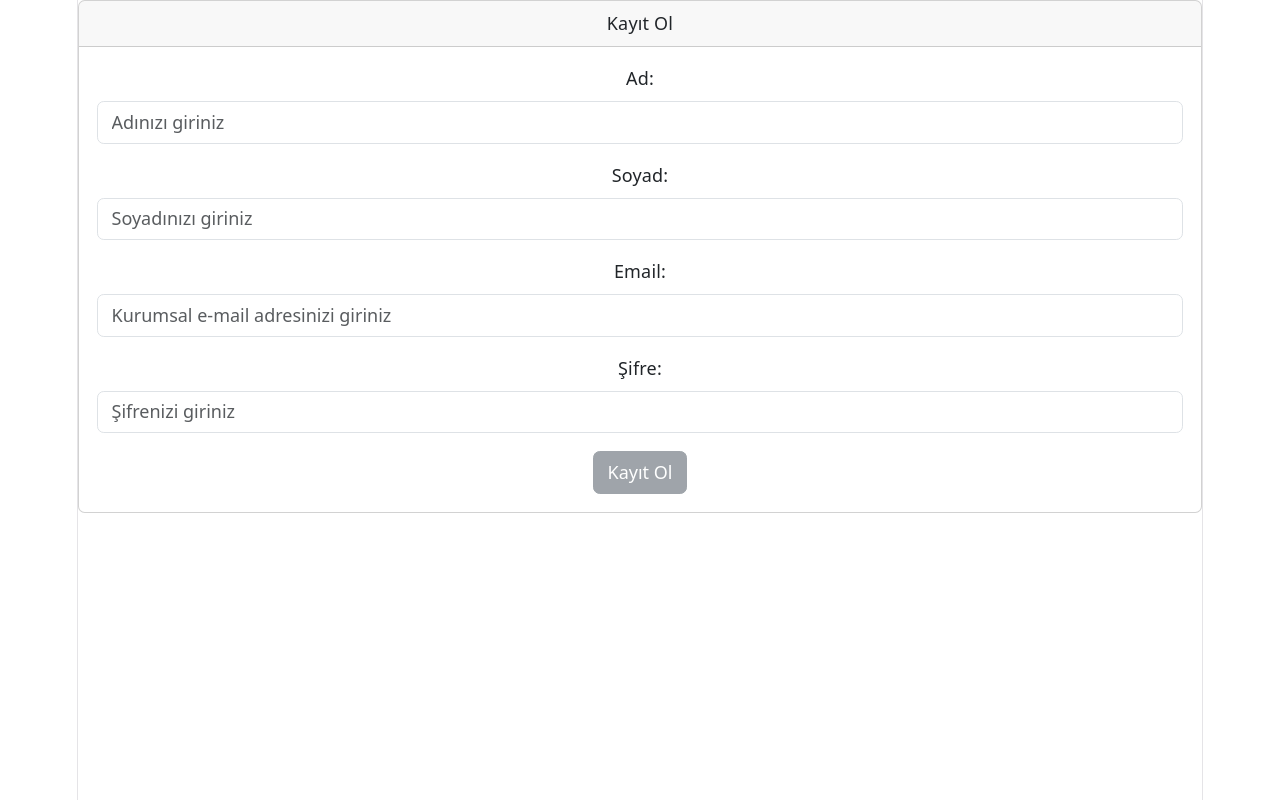
Register Page › Error Messages › Name input throws error for 2 chars
Type "gö" into the field with test id "ad-input" at x=640, y=123, box [97,101,1183,144]
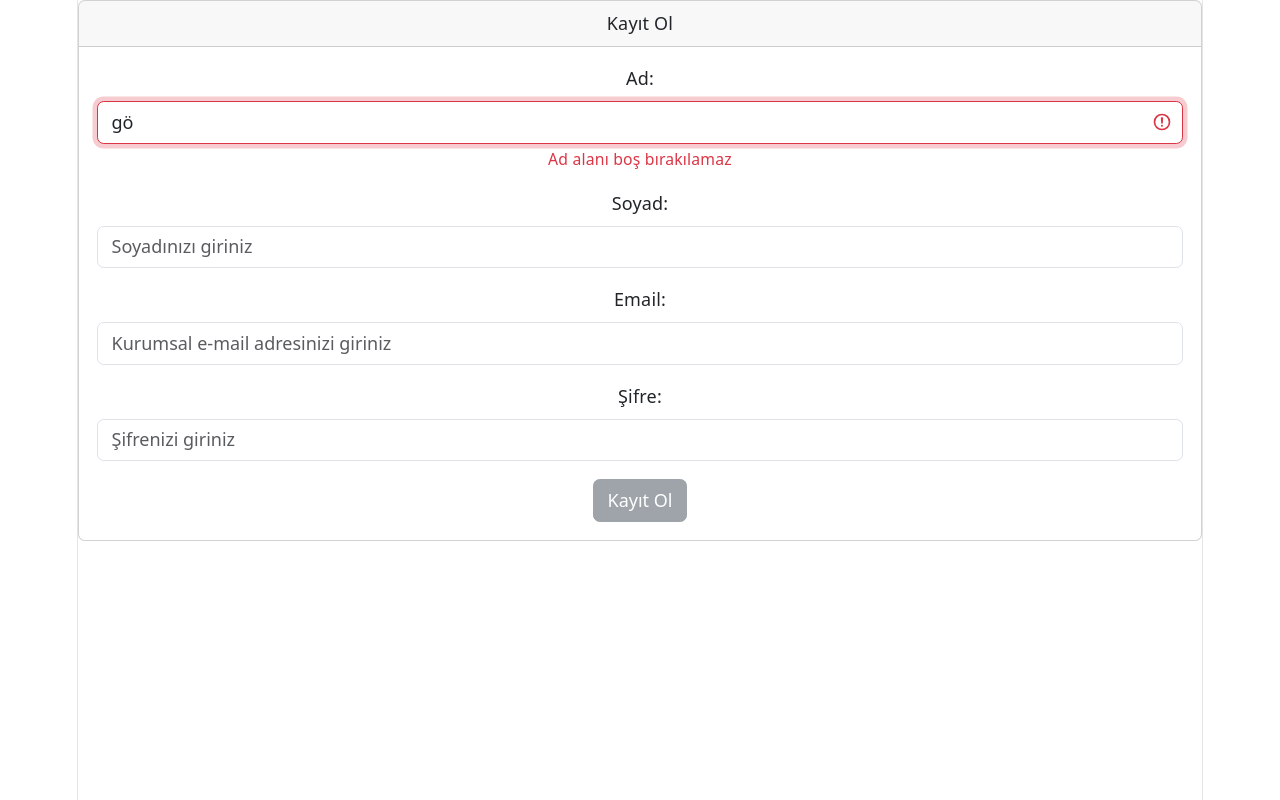
Result: the text "Ad alanı boş bırakılamaz" is shown at [548,148,732,170]
